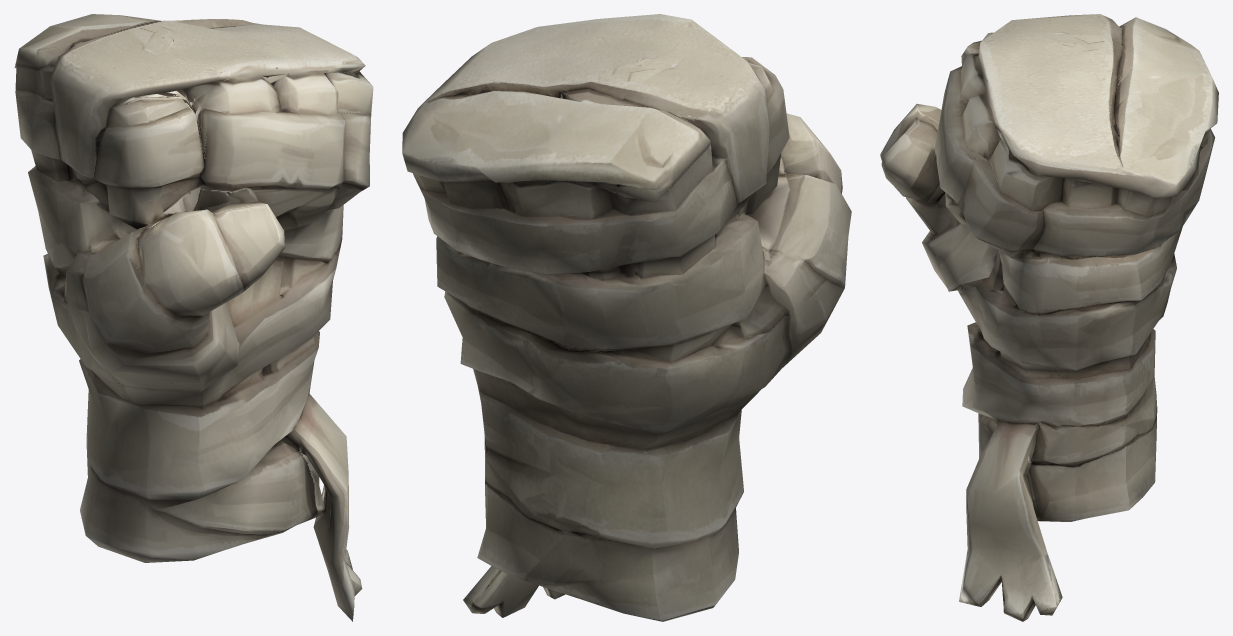
The model's file is Prop_Weapon_Bandage.fbx.
3 views of the same model, side by side, from view 1: azimuth 30°, elevation 25°; view 2: azimuth 150°, elevation 25°; view 3: azimuth 270°, elevation 25° (orthographic). The views are drawn at different scales.
Parts seen in each view (by area): view 1: texture_mapping; view 2: texture_mapping; view 3: texture_mapping.
Boxes of the visible parts, x1,y1,x2,y2 form: texture_mapping: (14,14,373,621); texture_mapping: (402,14,851,621); texture_mapping: (880,14,1218,621).
Bounding box in the file's own units: 0.5639 × 0.6008 × 1.
Materials: 1 (1 with a texture image).
